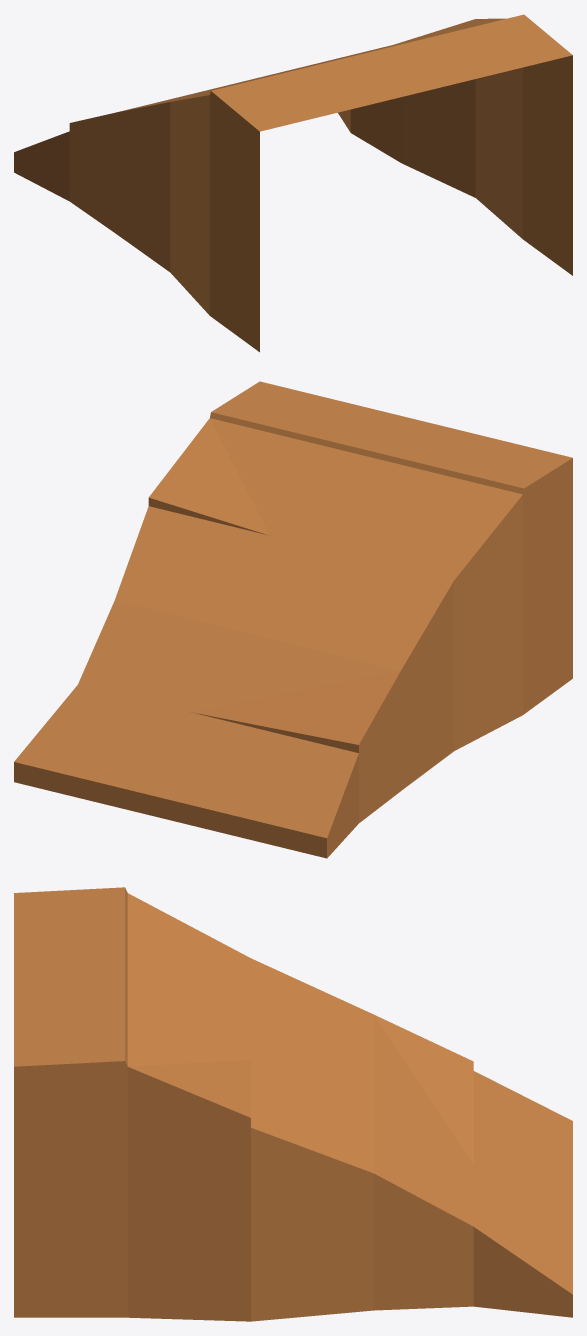
The model's file is Collider_Slope1.fbx.
3 views of the same model, one above another, from view 1: azimuth 30°, elevation 25°; view 2: azimuth 150°, elevation 25°; view 3: azimuth 270°, elevation 25° (orthographic). The views are drawn at different scales.
Parts seen in each view (by area): view 1: 平面.050; view 2: 平面.050; view 3: 平面.050.
Boxes of the visible parts, box(x1,y1,x2,y2) form: 平面.050: box(14, 14, 572, 352); 平面.050: box(14, 381, 572, 858); 平面.050: box(14, 887, 572, 1321).
Bounding box in the file's own units: 512 × 681 × 345.
